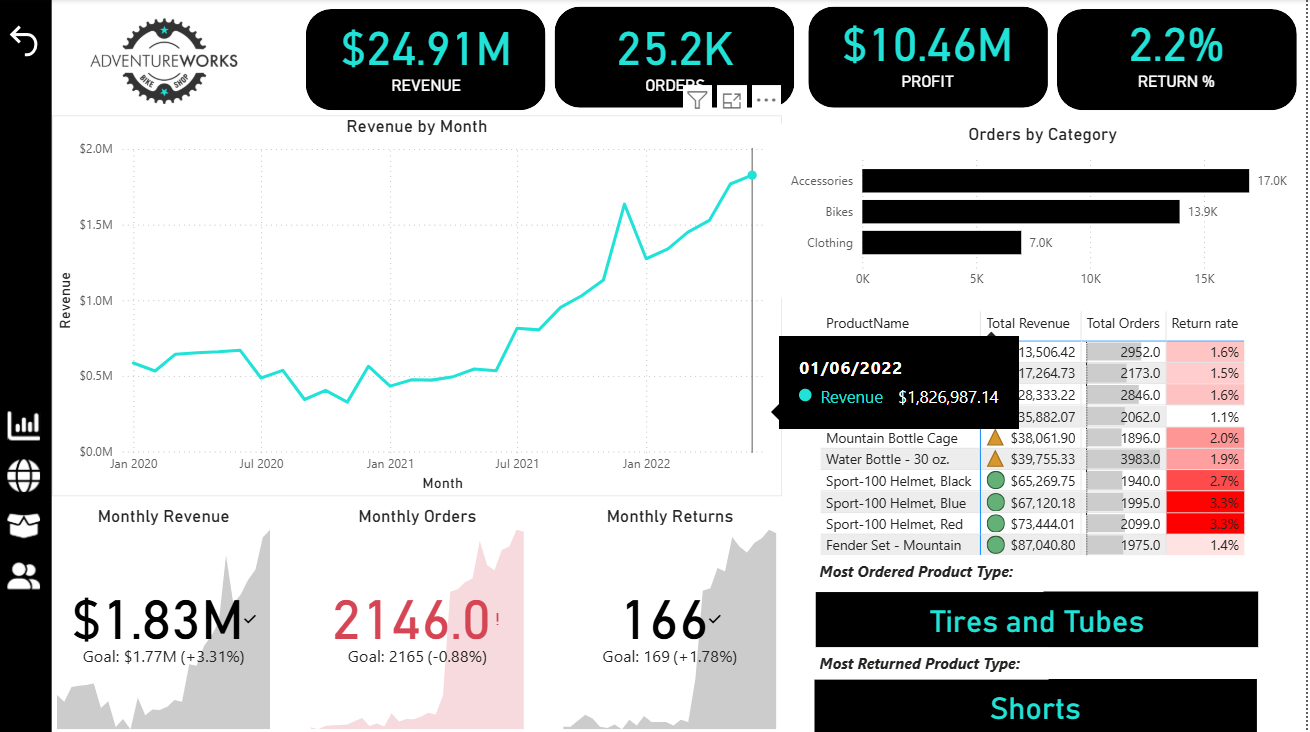

What the dashboard file says about the page in this screenshot:
{"tool":"powerbi","page":{"name":"Exec Dashboard","canvas":[1280,720],"ordinal":0},"visuals":[{"type":"shape","box":[0,0,53.8,720.2],"z":0},{"type":"actionButton","box":[1154.4,681.1,99,39.1],"z":1000},{"type":"shape","box":[302,9.8,234.8,99],"z":2000},{"type":"card","fields":{"Values":["Measure Table.Total Revenue"]},"box":[316.7,3.7,206.7,96.6],"z":3000},{"type":"image","box":[70.9,0,185.9,122.3],"z":4000},{"type":"shape","box":[545.4,7.3,234.8,99],"z":5000},{"type":"shape","box":[793.3,7.8,234.8,99],"z":6000},{"type":"shape","box":[1037,9.8,234.8,99],"z":7000},{"type":"card","fields":{"Values":["Measure Table.Total Orders"]},"box":[560.1,3.7,206.7,96.6],"z":8000},{"type":"card","fields":{"Values":["Measure Table.Total Profit"]},"box":[807.1,0,206.7,96.6],"z":9000},{"type":"card","fields":{"Values":["Measure Table.Return rate"]},"box":[1050.4,0,206.7,96.6],"z":10000},{"type":"lineChart","title":"Revenue by  Month","fields":{"Y":["Measure Table.Total Revenue"],"Category":["Calendar Lookup.Date Hierarchy.Start of Month"]},"box":[53.8,113.7,714.1,373],"z":11000},{"type":"barChart","title":"Orders by Category","fields":{"Category":["Product Categories Lookup.CategoryName"],"Y":["Measure Table.Total Orders"]},"box":[767.1,122.9,512.9,170],"z":12000},{"type":"pivotTable","fields":{"Rows":["Product Lookup.ProductName"],"Values":["Measure Table.Total Revenue","Measure Table.Total Orders","Measure Table.Return rate"]},"box":[801,300.8,447.6,251.9],"z":13000},{"type":"kpi","title":"Monthly Revenue","fields":{"Indicator":["Measure Table.Total Revenue"],"Goal":["Measure Table.prev month revenue"],"TrendLine":["Calendar Lookup.Date Hierarchy.Start of Month"]},"box":[54.3,495.7,218.6,224.3],"z":14000},{"type":"kpi","title":"Monthly Orders","fields":{"TrendLine":["Calendar Lookup.Date Hierarchy.Start of Month"],"Indicator":["Measure Table.Total Orders"],"Goal":["Measure Table.Previous Month Orders"]},"box":[301.4,495.7,218.6,224.3],"z":15000},{"type":"kpi","title":"Monthly Returns","fields":{"TrendLine":["Calendar Lookup.Date Hierarchy.Start of Month"],"Indicator":["Measure Table.Total returns"],"Goal":["Measure Table.Previous Month Returns"]},"box":[548.6,495.7,218.6,224.3],"z":16000},{"type":"card","fields":{"Values":["Min(Product Subcategories Lookup.SubcategoryName)"]},"box":[801.4,580,432.9,54.3],"z":17000},{"type":"textbox","box":[800,544.3,224.3,35.7],"z":18000},{"type":"card","fields":{"Values":["Min(Product Subcategories Lookup.SubcategoryName)"]},"box":[800,665.7,432.9,54.3],"z":19000},{"type":"textbox","box":[800,634.3,228.6,31.4],"z":20000},{"type":"actionButton","box":[6.1,20.8,100.3,40.4],"z":21000},{"type":"actionButton","box":[6.1,397.4,56.3,40.4],"z":22000},{"type":"actionButton","box":[6.1,446.3,56.3,40.4],"z":23000},{"type":"actionButton","box":[6.1,495.2,56.3,40.4],"z":24000},{"type":"actionButton","box":[6.1,544.2,56.3,40.4],"z":25000}]}

Visuals, with their boxes on the page's 1280x720 design canvas (x1, y1, x2, y2). These are canvas units, not pixel positions in the 1310x732 screenshot, which may show the page scaled, cropped or inside an application window:
shape: detection(0, 0, 54, 720)
actionButton: detection(1154, 681, 1253, 720)
shape: detection(302, 10, 537, 109)
card - Measure Table.Total Revenue: detection(317, 4, 523, 100)
image: detection(71, 0, 257, 122)
shape: detection(545, 7, 780, 106)
shape: detection(793, 8, 1028, 107)
shape: detection(1037, 10, 1272, 109)
card - Measure Table.Total Orders: detection(560, 4, 767, 100)
card - Measure Table.Total Profit: detection(807, 0, 1014, 97)
card - Measure Table.Return rate: detection(1050, 0, 1257, 97)
"Revenue by  Month" lineChart: detection(54, 114, 768, 487)
"Orders by Category" barChart: detection(767, 123, 1280, 293)
pivotTable - Product Lookup.ProductName x Measure Table.Total Revenue: detection(801, 301, 1249, 553)
"Monthly Revenue" kpi: detection(54, 496, 273, 720)
"Monthly Orders" kpi: detection(301, 496, 520, 720)
"Monthly Returns" kpi: detection(549, 496, 767, 720)
card - Min(Product Subcategories Lookup.SubcategoryName): detection(801, 580, 1234, 634)
textbox: detection(800, 544, 1024, 580)
card - Min(Product Subcategories Lookup.SubcategoryName): detection(800, 666, 1233, 720)
textbox: detection(800, 634, 1029, 666)
actionButton: detection(6, 21, 106, 61)
actionButton: detection(6, 397, 62, 438)
actionButton: detection(6, 446, 62, 487)
actionButton: detection(6, 495, 62, 536)
actionButton: detection(6, 544, 62, 585)
